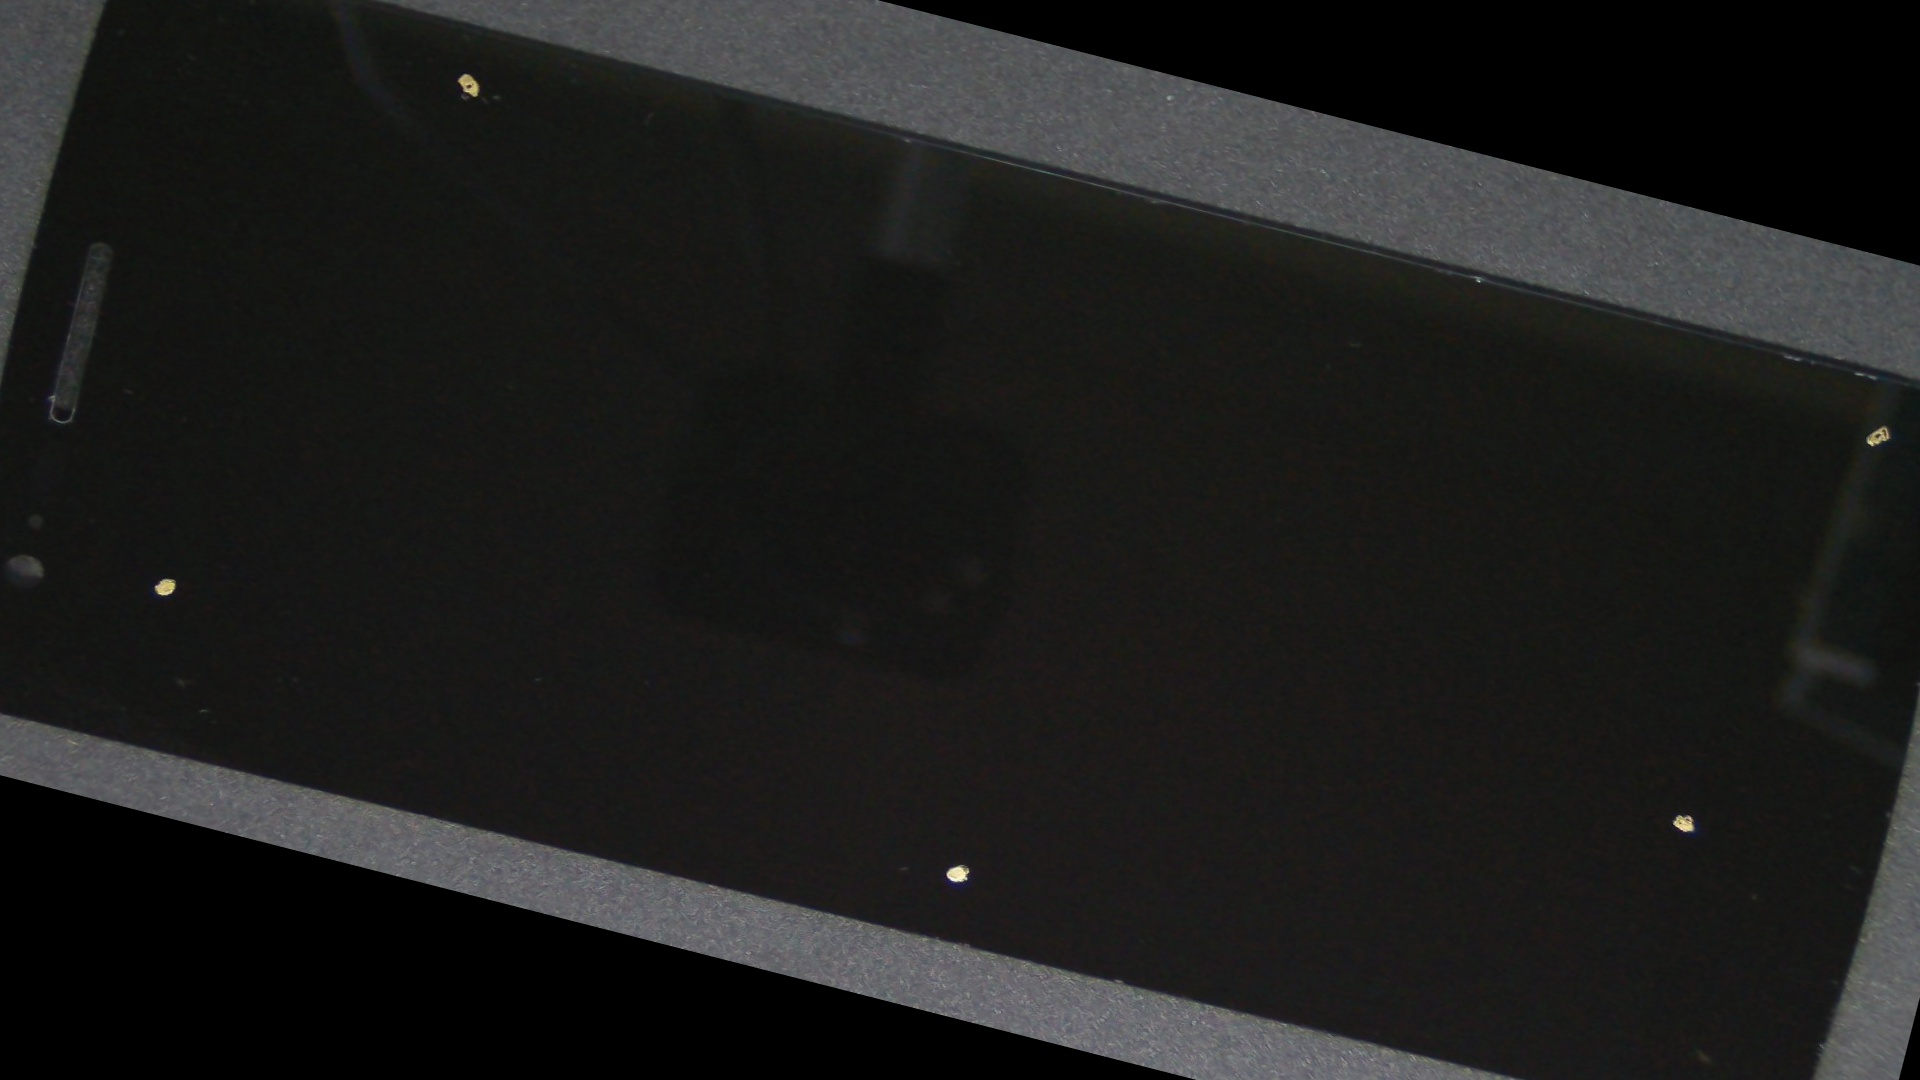oil: (351, 320, 1631, 1080), (707, 296, 1920, 1080), (911, 102, 1920, 546), (0, 179, 437, 849), (200, 0, 737, 218)
